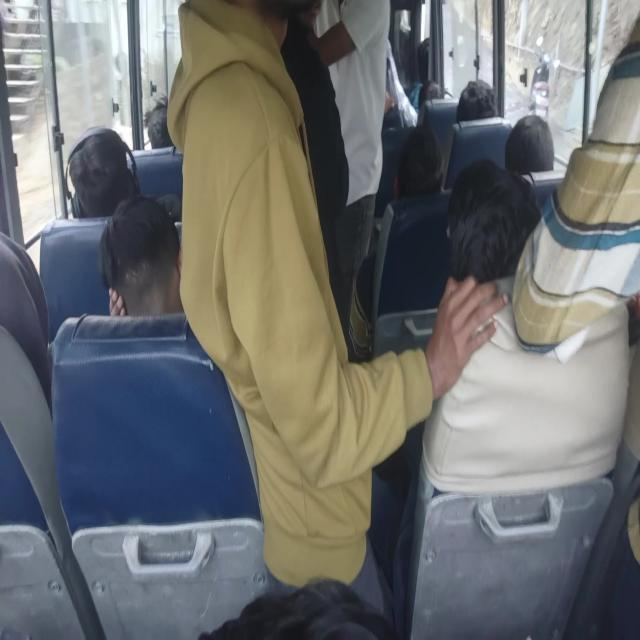person: (219, 0, 367, 284), (152, 526, 509, 640), (281, 0, 379, 196), (596, 0, 640, 416), (102, 200, 190, 346), (320, 0, 398, 162), (438, 192, 527, 330), (0, 244, 49, 415), (68, 132, 130, 208), (502, 111, 556, 183), (454, 79, 502, 133), (406, 128, 444, 186), (418, 31, 454, 90), (146, 96, 182, 154), (426, 83, 456, 114)
